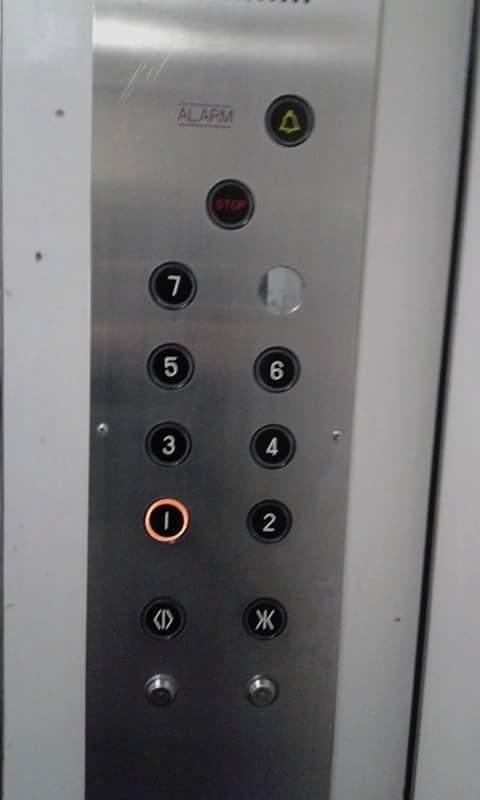1: (143, 497, 189, 544)
2: (245, 497, 294, 545)
3: (143, 419, 192, 469)
4: (248, 422, 298, 472)
5: (146, 341, 196, 392)
6: (251, 344, 302, 394)
7: (146, 258, 199, 312)
alarm: (264, 92, 316, 149)
close: (241, 596, 288, 643)
indicator: (143, 673, 180, 711), (243, 673, 280, 711)
open: (141, 596, 187, 642)
stop: (204, 175, 257, 231)
